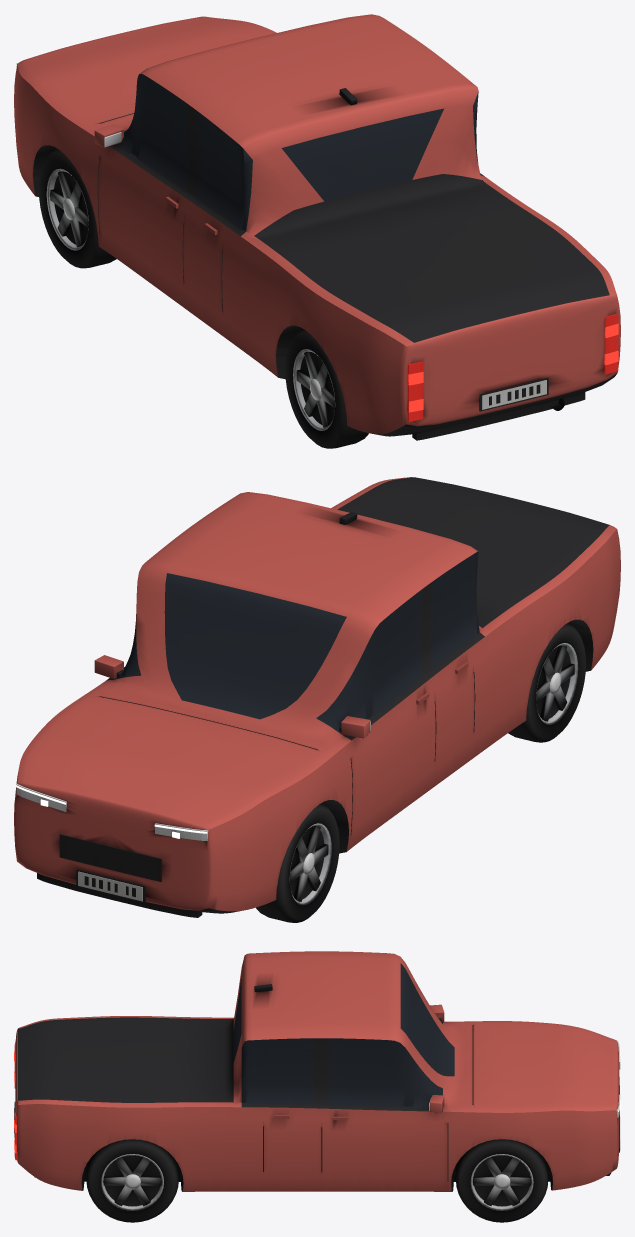
The model's file is t_pickup.glb.
The picture shows the model from 3 angles, top to bottom: view 1: azimuth 30°, elevation 25°; view 2: azimuth 150°, elevation 25°; view 3: azimuth 270°, elevation 25°; orthographic projection. The views are drawn at different scales.
Visible parts, largest first — view 1: Body, Wheel_RL, Wheel_FL, Details, Rounded; view 2: Body, Details, Wheel_FL, Wheel_RL, Rounded; view 3: Body, Wheel_FR, Wheel_RR, Details, Rounded.
Part boxes in pixels (box(x1,y1,x2,y2)): Body: box(14, 14, 620, 436); Wheel_RL: box(285, 329, 368, 448); Wheel_FL: box(38, 149, 116, 268); Details: box(16, 16, 618, 440); Rounded: box(94, 88, 357, 147); Body: box(14, 477, 620, 913); Details: box(16, 662, 468, 917); Wheel_FL: box(256, 803, 339, 922); Wheel_RL: box(508, 623, 585, 742); Rounded: box(94, 512, 370, 738); Body: box(15, 951, 619, 1191); Wheel_FR: box(455, 1139, 548, 1222); Wheel_RR: box(86, 1139, 178, 1222); Details: box(14, 1040, 620, 1177); Rounded: box(254, 984, 444, 1112).
Bounding box in the file's own units: 2.09 × 1.92 × 5.42.
